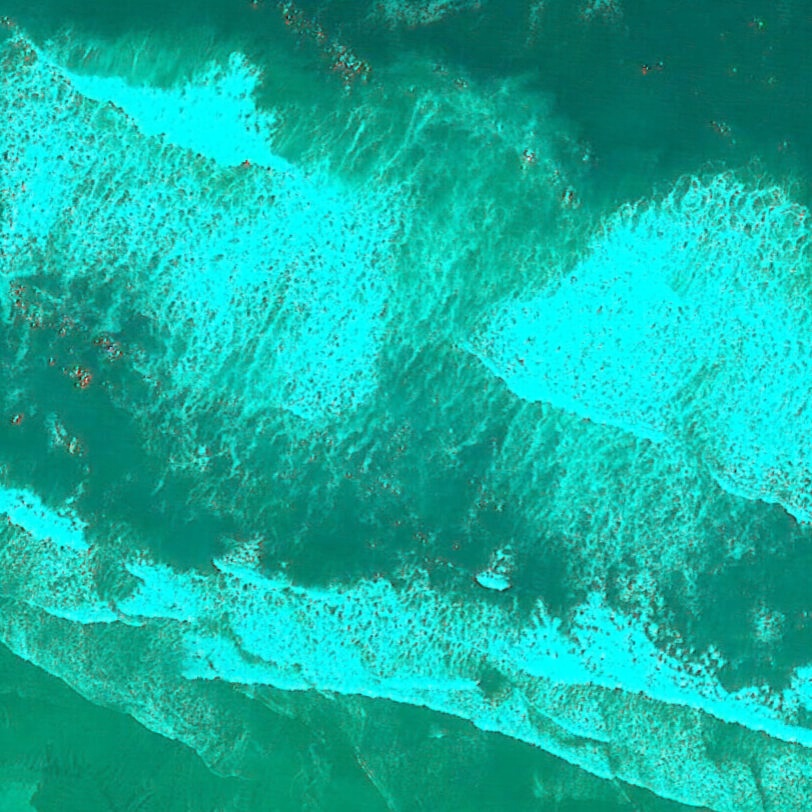rip_current: (274, 104, 579, 537)
